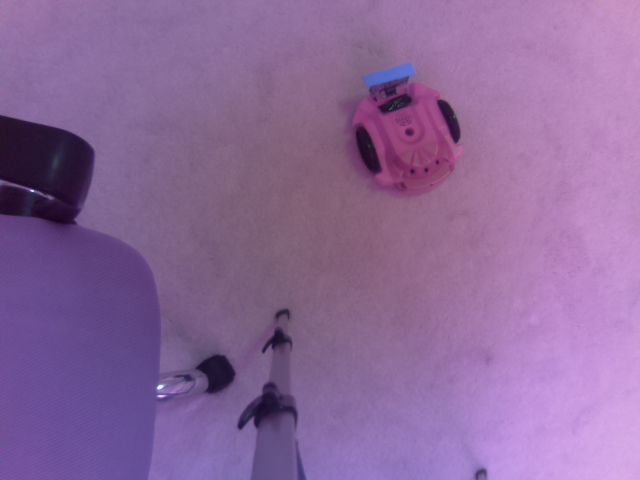board: (360, 59, 420, 111)
chassis: (350, 56, 463, 200)
